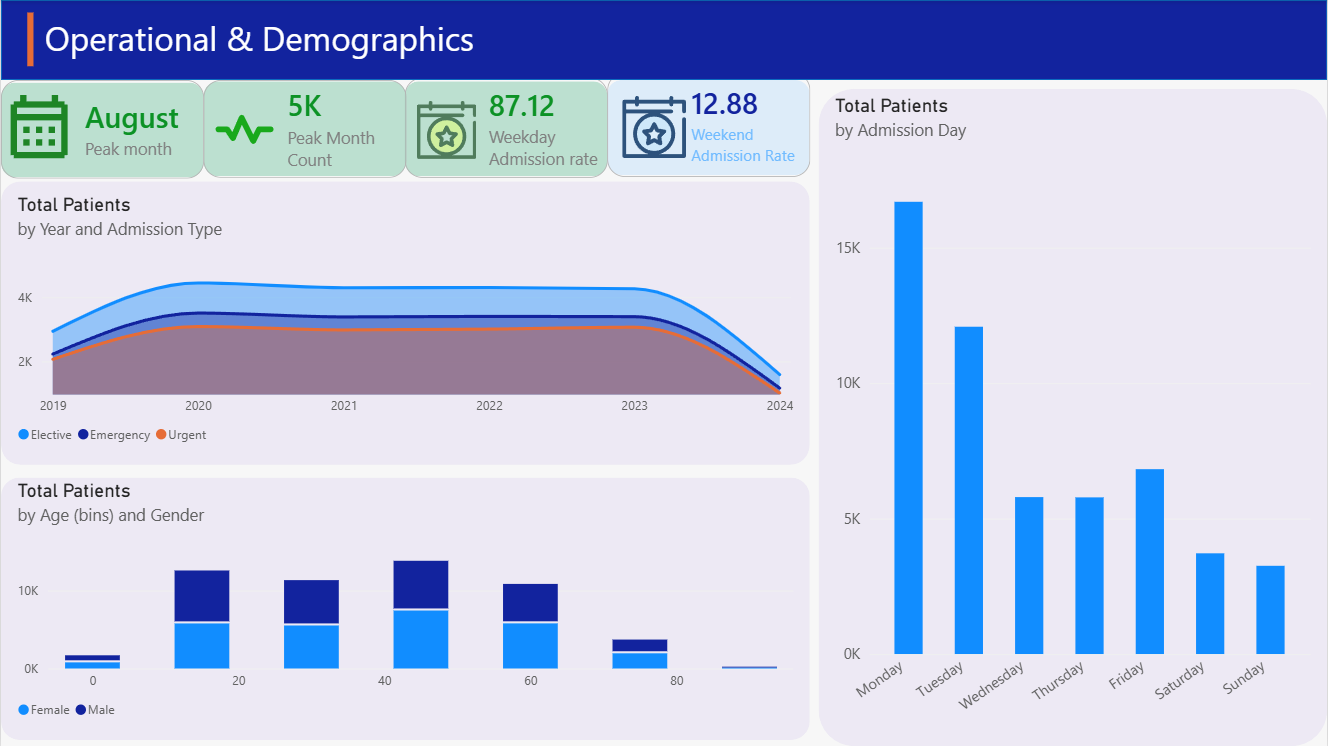

The dashboard page shown, as its layout file describes it:
{"tool":"powerbi","page":{"name":"Operational & Demographics","canvas":[1280,720],"ordinal":2},"visuals":[{"type":"shape","box":[585.1,77.2,195.4,91.7],"z":0},{"type":"shape","box":[0,79.6,195.4,91.7],"z":1000},{"type":"shape","box":[195.4,78.4,195.4,91.7],"z":2000},{"type":"shape","box":[389.7,78.4,195.4,91.7],"z":3000},{"type":"shape","box":[0,460.9,780.6,253.4],"z":4000},{"type":"shape","box":[789,85.7,491,634.6],"z":5000},{"type":"shape","box":[0,174.9,780.6,273.9],"z":6000},{"type":"cardVisual","fields":{"Data":["All Measures.Peak Month Count"]},"box":[195,77.2,196,94.1],"z":7000},{"type":"cardVisual","fields":{"Data":["All Measures.Weekend Admission Rate"]},"box":[585.1,70,196,101.3],"z":8000},{"type":"cardVisual","fields":{"Data":["All Measures.Peak month"]},"box":[0,77.2,196,95.3],"z":9000},{"type":"cardVisual","fields":{"Data":["All Measures.Weekday Admission rate"]},"box":[390.1,74.8,196,97.7],"z":10000},{"type":"areaChart","fields":{"Category":["healthcare_data_clean.Date of Admission.Variation.Date Hierarchy.Year"],"Series":["healthcare_data_clean.Admission Type"],"Y":["All Measures.Total Patients"]},"box":[0,172.5,780.6,276.3],"z":11000},{"type":"columnChart","fields":{"Category":["healthcare_data_clean.Age (bins)"],"Series":["healthcare_data_clean.Gender"],"Y":["All Measures.Total Patients"]},"box":[0,448.8,780.6,265.4],"z":12000},{"type":"columnChart","fields":{"Category":["healthcare_data_clean.Admission Day"],"Y":["All Measures.Total Patients"]},"box":[789,77.2,491,643],"z":13000},{"type":"shape","box":[0,0,1280,77.2],"z":14000},{"type":"textbox","box":[42.2,14.5,452.4,47.1],"z":15000},{"type":"shape","box":[0,12.1,56.7,51.9],"z":16000},{"type":"image","box":[597.2,91.7,66.4,61.5],"z":17000},{"type":"image","box":[390.9,96.5,78.4,57.9],"z":18000},{"type":"image","box":[201.5,88.1,67.6,73.6],"z":19000},{"type":"image","box":[0,91.7,73.6,67.6],"z":20000}]}

Visuals, with their boxes in screenshot pixels (x1, y1, x2, y2), scaled from the page's 1280x720 canvas onto the 1328x746 screenshot:
shape: <bbox>607, 80, 810, 175</bbox>
shape: <bbox>0, 82, 203, 177</bbox>
shape: <bbox>203, 81, 405, 176</bbox>
shape: <bbox>404, 81, 607, 176</bbox>
shape: <bbox>0, 478, 810, 740</bbox>
shape: <bbox>819, 89, 1327, 745</bbox>
shape: <bbox>0, 181, 810, 465</bbox>
cardVisual - All Measures.Peak Month Count: <bbox>202, 80, 406, 177</bbox>
cardVisual - All Measures.Weekend Admission Rate: <bbox>607, 73, 810, 177</bbox>
cardVisual - All Measures.Peak month: <bbox>0, 80, 203, 179</bbox>
cardVisual - All Measures.Weekday Admission rate: <bbox>405, 78, 608, 179</bbox>
areaChart - healthcare_data_clean.Date of Admission.Variation.Date Hierarchy.Year x healthcare_data_clean.Admission Type: <bbox>0, 179, 810, 465</bbox>
columnChart - healthcare_data_clean.Age (bins) x healthcare_data_clean.Gender: <bbox>0, 465, 810, 740</bbox>
columnChart - healthcare_data_clean.Admission Day x All Measures.Total Patients: <bbox>819, 80, 1327, 745</bbox>
shape: <bbox>0, 0, 1327, 80</bbox>
textbox: <bbox>44, 15, 513, 64</bbox>
shape: <bbox>0, 13, 59, 66</bbox>
image: <bbox>620, 95, 688, 159</bbox>
image: <bbox>406, 100, 487, 160</bbox>
image: <bbox>209, 91, 279, 168</bbox>
image: <bbox>0, 95, 76, 165</bbox>
